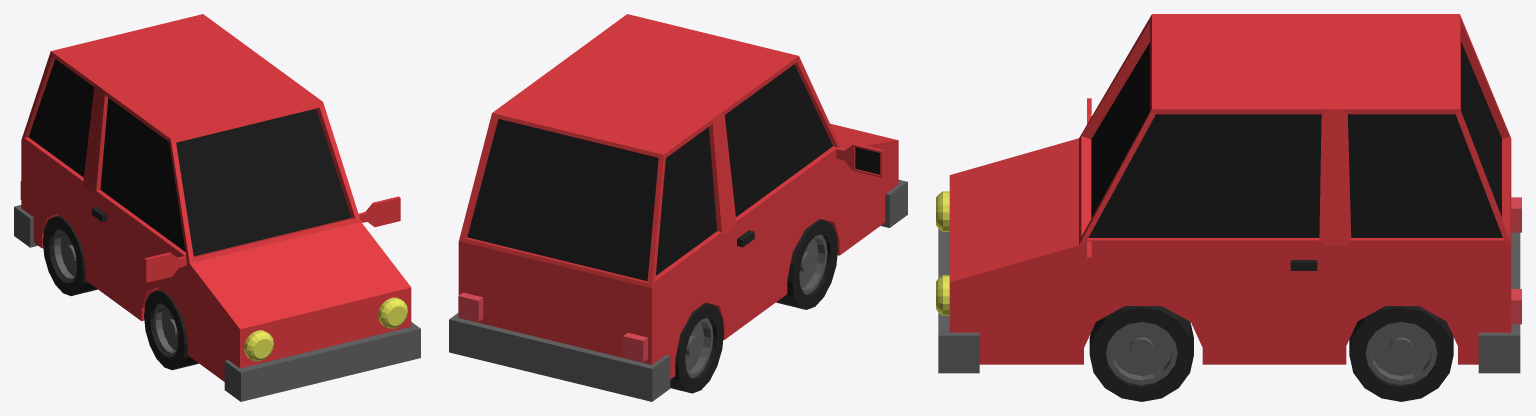
The model's file is car03.fbx.
3 views of the same model, side by side, from view 1: azimuth 30°, elevation 25°; view 2: azimuth 150°, elevation 25°; view 3: azimuth 270°, elevation 25° (orthographic). The views are drawn at different scales.
Visible parts, largest first — view 1: Cube.025; view 2: Cube.025; view 3: Cube.025.
Part boxes in pixels (x1,y1,x2,y2): Cube.025: [14, 14, 420, 401]; Cube.025: [449, 14, 907, 401]; Cube.025: [936, 14, 1521, 401].
Bounding box in the file's own units: 323 × 271 × 502.
